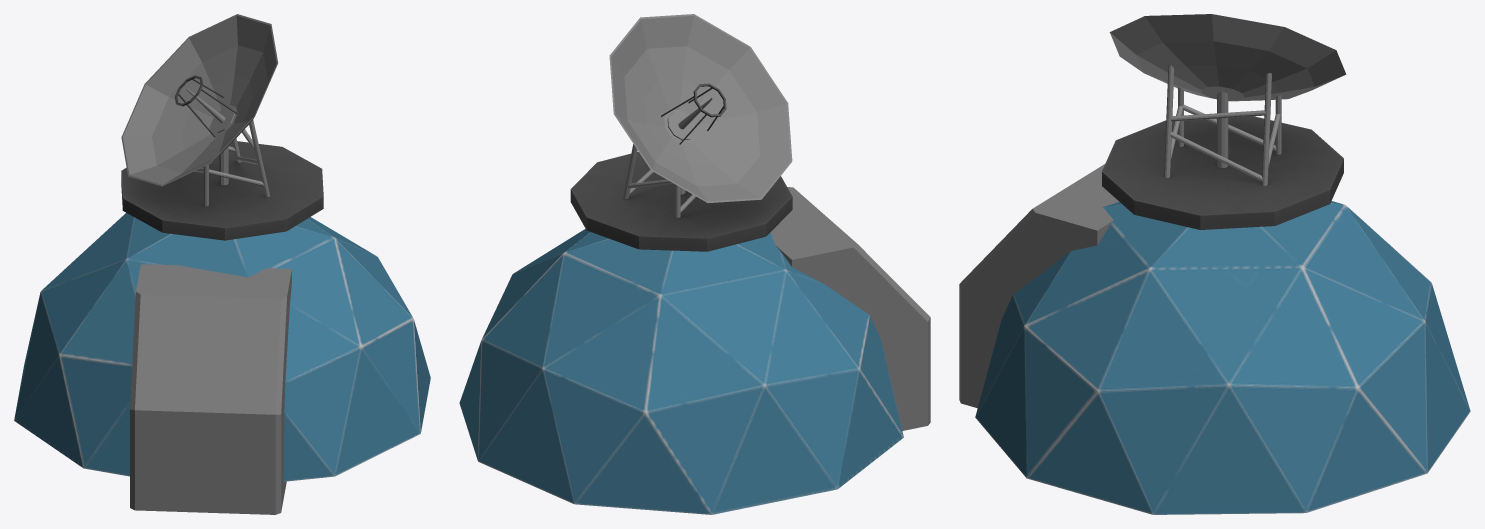
File: anteanna2.glb
3 renders of one model, left to right at view 1: azimuth 30°, elevation 25°; view 2: azimuth 150°, elevation 25°; view 3: azimuth 270°, elevation 25°, orthographic. The views are drawn at different scales.
Visible parts, largest first — view 1: Icosphere, Cube.004, Animated-part; view 2: Icosphere, Animated-part, Cube.004; view 3: Icosphere, Animated-part, Cube.004.
Part boxes in pixels (x1=…): Icosphere: x1=14, y1=212, x2=430, y2=481; Cube.004: x1=130, y1=264, x2=291, y2=514; Animated-part: x1=121, y1=14, x2=323, y2=240; Icosphere: x1=459, y1=229, x2=903, y2=514; Animated-part: x1=570, y1=14, x2=792, y2=251; Cube.004: x1=771, y1=187, x2=930, y2=430; Icosphere: x1=975, y1=201, x2=1470, y2=514; Animated-part: x1=1102, y1=14, x2=1346, y2=229; Cube.004: x1=959, y1=164, x2=1119, y2=408.
Size of the model in its own units: 3.75 by 3.88 by 4.03.
Materials: 1 (1 with a texture image).
